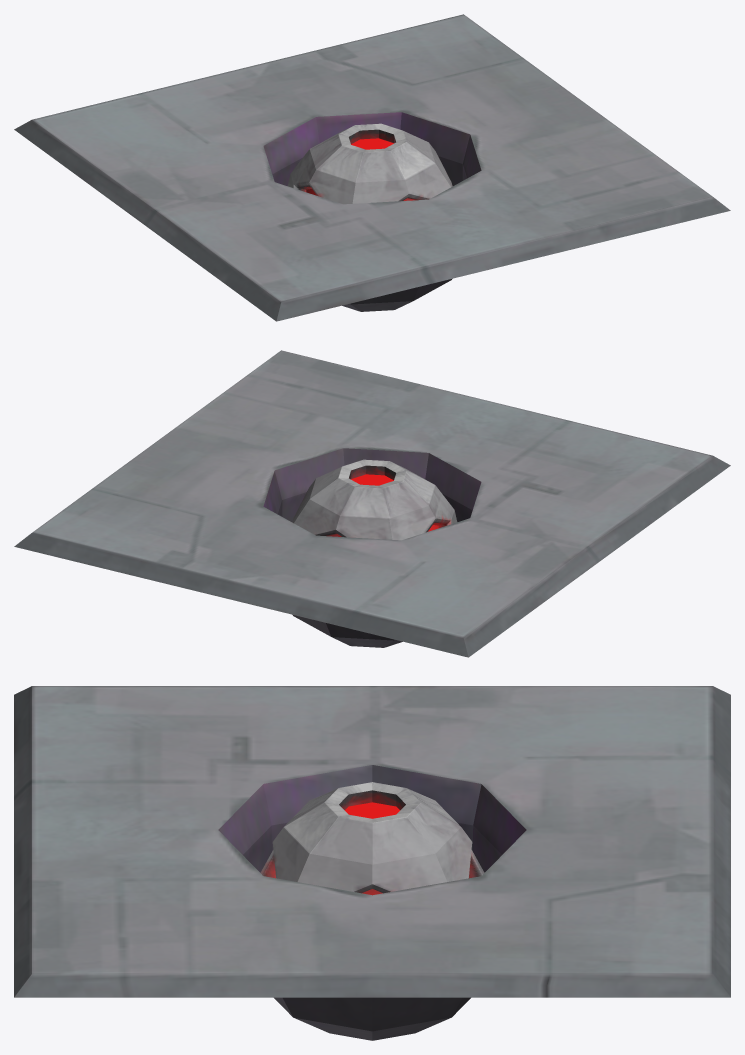
The model's file is tile_mine.fbx.
3 views of the same model, one above another, from view 1: azimuth 30°, elevation 25°; view 2: azimuth 150°, elevation 25°; view 3: azimuth 270°, elevation 25° (orthographic). The views are drawn at different scales.
Visible parts, largest first — view 1: tile_mine_base, mine_ball_body; view 2: tile_mine_base, mine_ball_body; view 3: tile_mine_base, mine_ball_body.
Part boxes in pixels (x1,y1,x2,y2): tile_mine_base: (14,14,730,321); mine_ball_body: (287,123,452,204); tile_mine_base: (14,350,730,657); mine_ball_body: (292,459,457,540); tile_mine_base: (14,686,730,1040); mine_ball_body: (260,782,484,895).
Bounding box in the file's own units: 0.02 × 0.00689 × 0.02.
